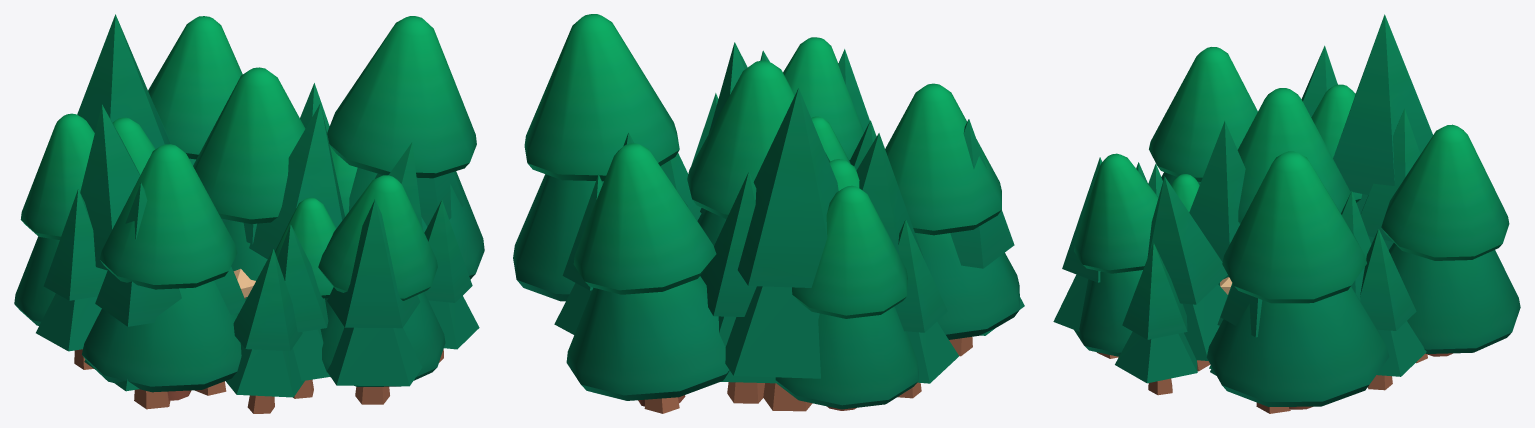
The model's file is kay_camp.glb.
The picture shows the model from 3 angles, left to right: view 1: azimuth 30°, elevation 25°; view 2: azimuth 150°, elevation 25°; view 3: azimuth 270°, elevation 25°; orthographic projection. The views are drawn at different scales.
Parts seen in each view (by area): view 1: trees_B_medium, trees_A_medium, tree_single_B, trees_A_small, trees_B_small; view 2: trees_B_medium, trees_A_medium, trees_A_small, tree_single_B, trees_B_small; view 3: trees_B_medium, trees_A_medium, trees_A_small, tree_single_B, trees_B_small.
Part boxes in pixels (x1,y1,x2,y2): trees_B_medium: (14, 16, 484, 400); trees_A_medium: (36, 14, 479, 413); tree_single_B: (193, 67, 305, 300); trees_A_small: (80, 83, 422, 398); trees_B_small: (113, 117, 357, 298); trees_B_medium: (513, 14, 1019, 410); trees_A_medium: (554, 49, 1024, 413); trees_A_small: (623, 42, 924, 403); tree_single_B: (687, 60, 829, 245); trees_B_small: (678, 116, 859, 206); trees_B_medium: (1074, 47, 1520, 409); trees_A_medium: (1053, 14, 1432, 413); trees_A_small: (1147, 45, 1427, 371); tree_single_B: (1237, 88, 1350, 223); trees_B_small: (1171, 84, 1361, 212).
Size of the model in its own units: 1.86 by 1.38 by 1.91.
Materials: 1 (1 with a texture image).
